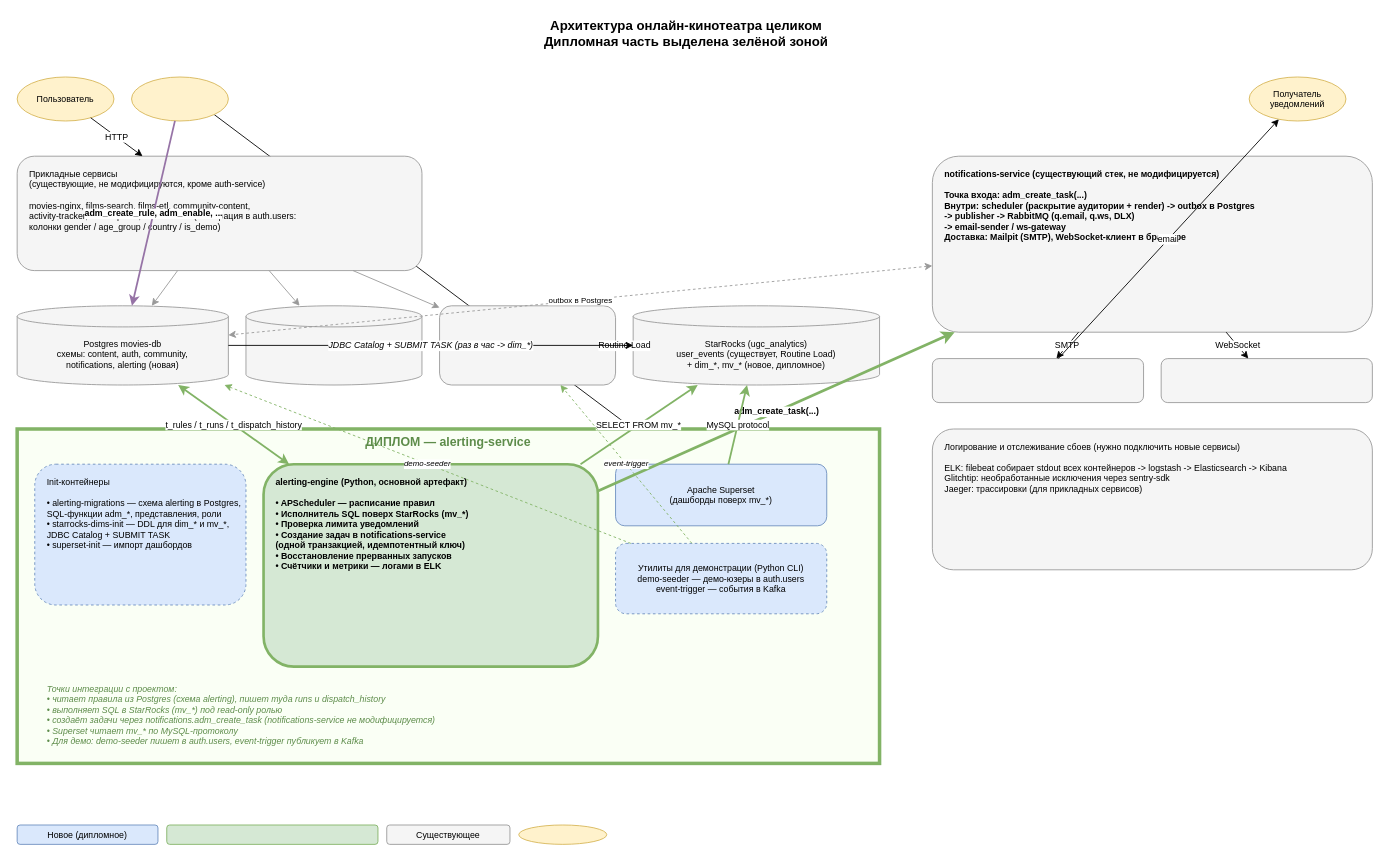
Image size: 1388x860. Some labels were removed from this diagram. Here are the shapes that lost their labels. From the top down, the centre of each, then its label:
the point at 179,98: Аналитик
the point at 333,345: Elasticsearch + Redis (поиск фильмов, кэш)
the point at 527,345: Kafka (события пользователей)
the point at 1037,380: movies-mailpit (локальный SMTP-приёмник)
the point at 1266,380: WS-клиент (браузер)
the point at 272,834: alerting-engine (основной артефакт)
the point at 562,834: Актор
